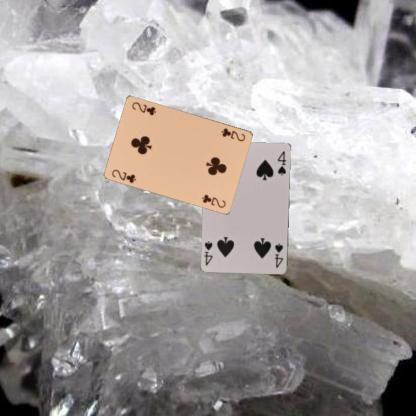2c: (109, 166, 138, 184), (219, 125, 247, 143)
4s: (272, 241, 284, 269)
